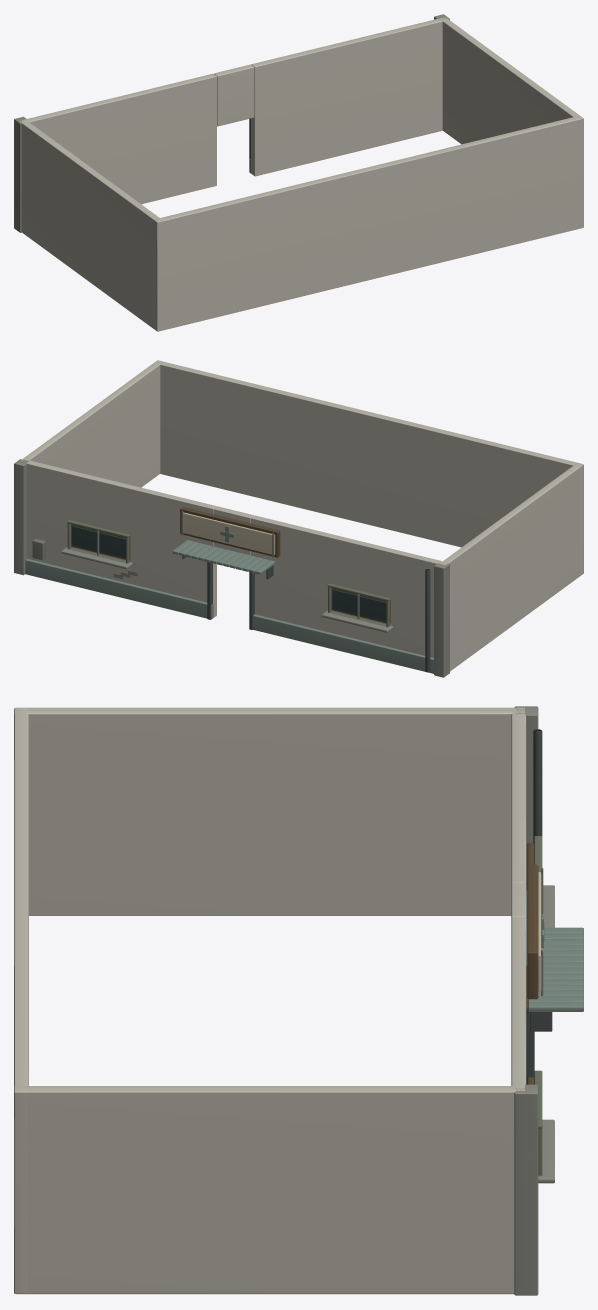
Rendered from Medical_Shell.fbx.
3 views of the same model, one above another, from view 1: azimuth 30°, elevation 25°; view 2: azimuth 150°, elevation 25°; view 3: azimuth 270°, elevation 25° (orthographic). The views are drawn at different scales.
Parts seen in each view (by area): view 1: Medical_Shell; view 2: Medical_Shell; view 3: Medical_Shell.
Boxes of the visible parts, x1,y1,x2,y2 form: Medical_Shell: (14,14,583,331); Medical_Shell: (14,360,583,677); Medical_Shell: (14,706,583,1295).
Size of the model in its own units: 1844 by 450 by 1146.
